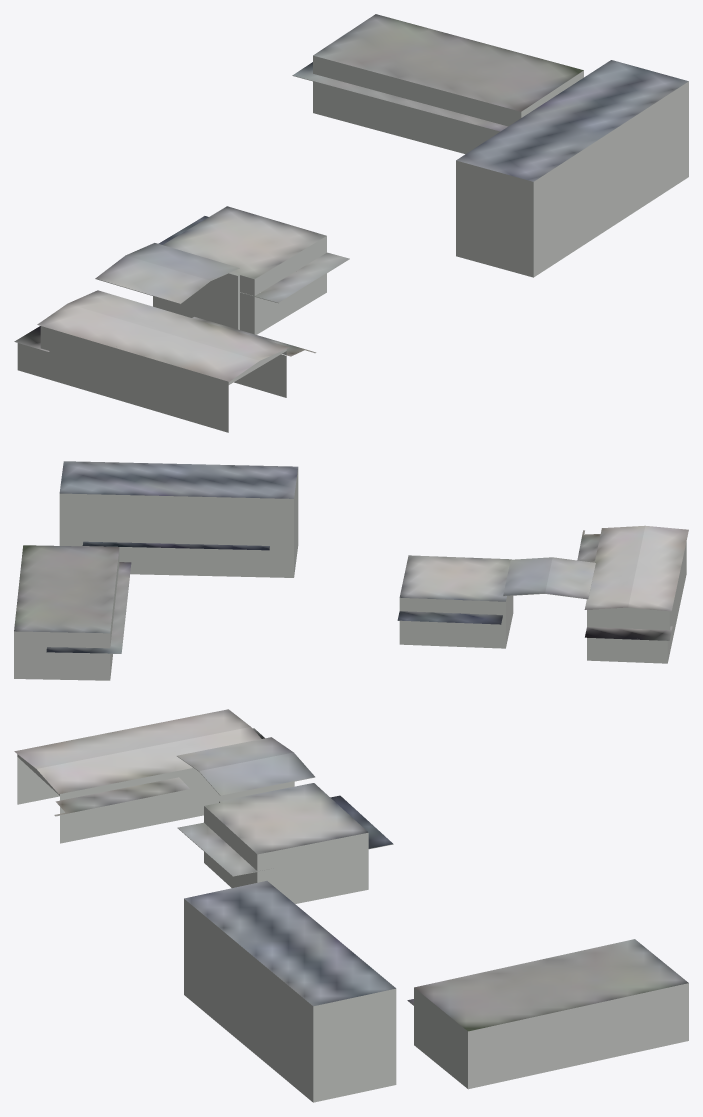
The model's file is LSGS_1_-1.glb.
The picture shows the model from 3 angles, top to bottom: view 1: azimuth 30°, elevation 25°; view 2: azimuth 150°, elevation 25°; view 3: azimuth 270°, elevation 25°; orthographic projection. The views are drawn at different scales.
Visible parts, largest first — view 1: building_022cb84cf696bc9f, building_6dfea5a9820d38c3; view 2: building_6dfea5a9820d38c3, building_022cb84cf696bc9f; view 3: building_022cb84cf696bc9f, building_6dfea5a9820d38c3.
Boxes of the visible parts, bbox=[...] form: building_022cb84cf696bc9f: bbox=[17, 55, 688, 432]; building_6dfea5a9820d38c3: bbox=[14, 14, 688, 381]; building_6dfea5a9820d38c3: bbox=[14, 461, 688, 653]; building_022cb84cf696bc9f: bbox=[14, 467, 686, 680]; building_022cb84cf696bc9f: bbox=[17, 754, 688, 1102]; building_6dfea5a9820d38c3: bbox=[14, 709, 688, 1031].
Size of the model in its own units: 158 by 20.56 by 130.
2 materials, 1 textured.
